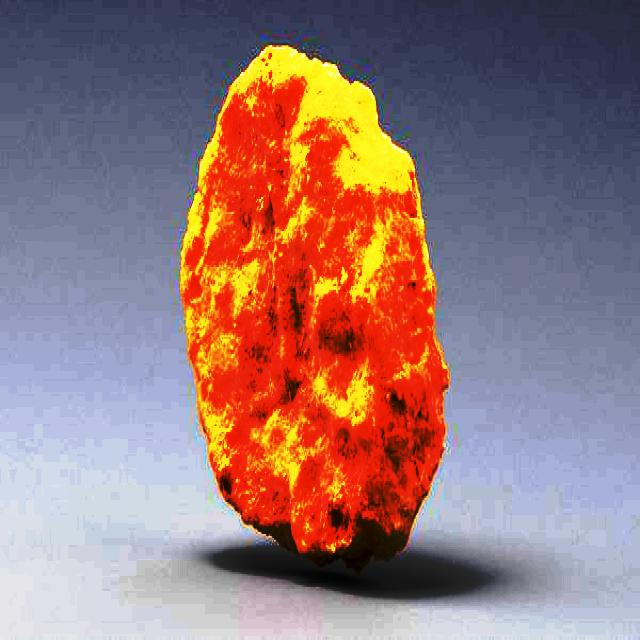chicken_nuggets: (170, 17, 460, 603)
